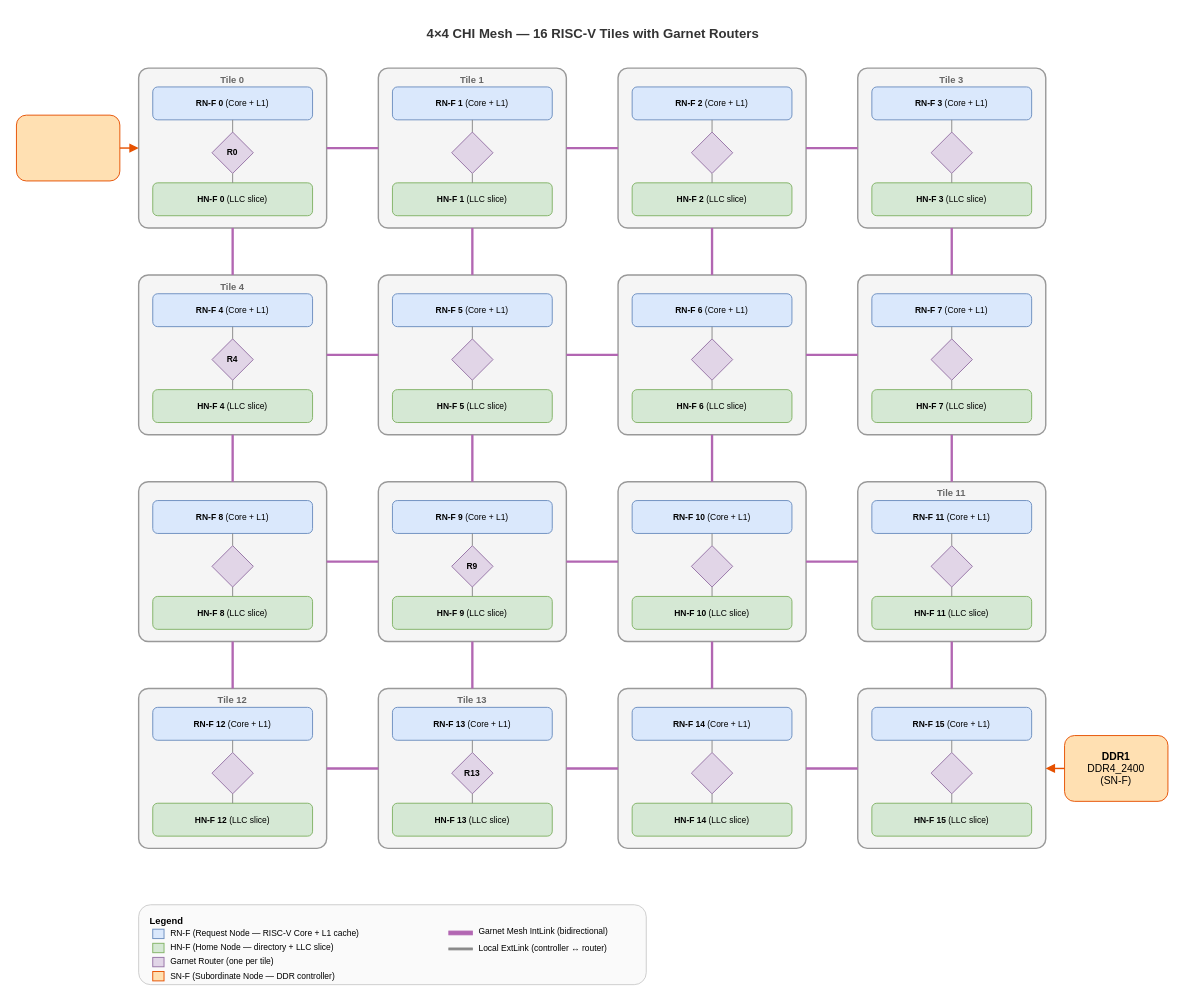
This 1184x1001 diagram has some shape labels left out. Each missing label, with the box of its shape:
DDR0 DDR4_2400 (SN-F): (16, 114, 120, 181)
R1: (451, 131, 493, 173)
R10: (690, 545, 733, 587)
R11: (930, 545, 972, 587)
R12: (211, 752, 253, 794)
R14: (690, 752, 733, 794)
R15: (930, 752, 972, 794)
R2: (690, 131, 733, 173)
R3: (930, 131, 972, 173)
R5: (451, 338, 493, 380)
R6: (690, 338, 733, 380)
R7: (930, 338, 972, 380)
R8: (211, 545, 253, 587)
Tile 10: (617, 481, 806, 642)
Tile 14: (617, 687, 806, 849)
Tile 15: (857, 687, 1046, 849)
Tile 2: (617, 67, 806, 228)
Tile 5: (377, 274, 567, 435)
Tile 6: (617, 274, 806, 435)
Tile 7: (857, 274, 1046, 435)
Tile 8: (138, 481, 327, 642)
Tile 9: (377, 481, 567, 642)
